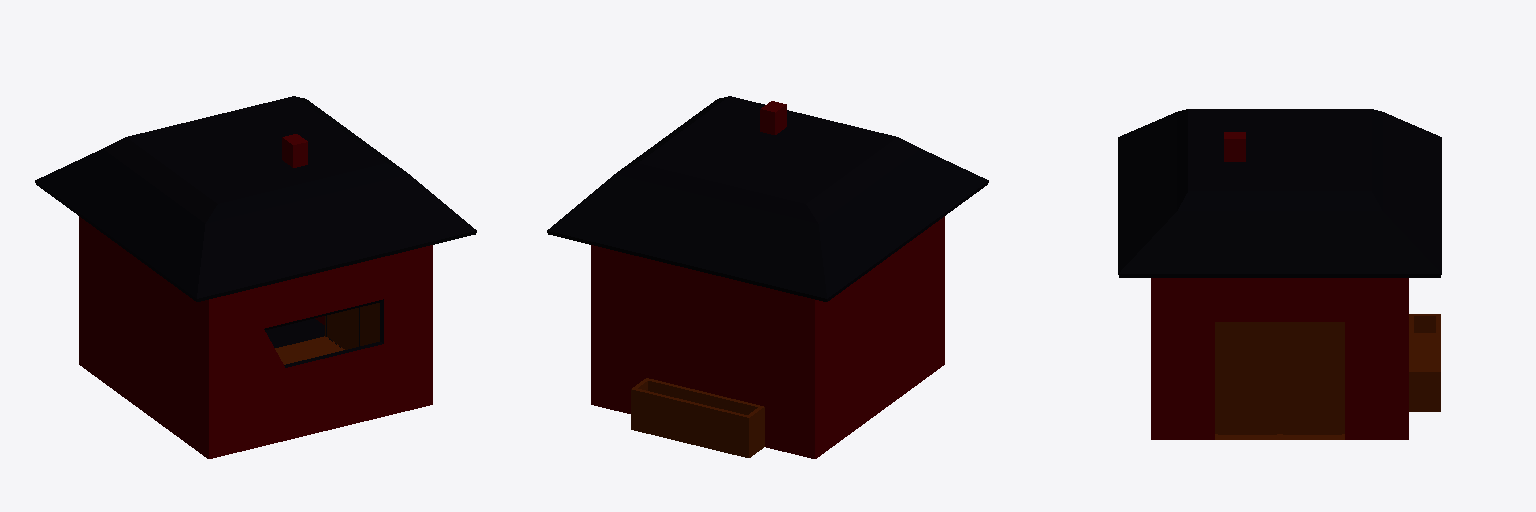
The model's file is testhouse.obj.
3 renders of one model, left to right at view 1: azimuth 30°, elevation 25°; view 2: azimuth 150°, elevation 25°; view 3: azimuth 270°, elevation 25°, orthographic.
Visible parts, largest first — view 1: Cube; view 2: Cube; view 3: Cube.
Boxes of the visible parts, box(x1,y1,x2,y2) form: Cube: box(35, 96, 476, 458); Cube: box(547, 96, 988, 458); Cube: box(1118, 109, 1441, 439).
Size of the model in its own units: 10 by 8.78 by 10.